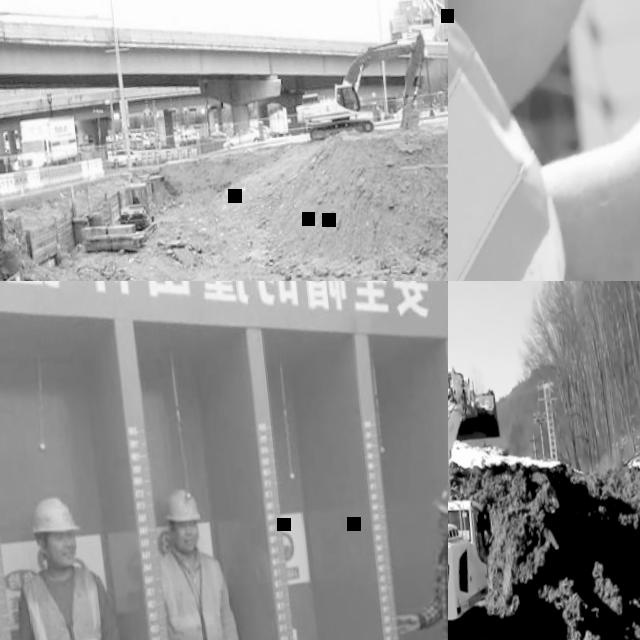Hardhat: (28, 496, 77, 535), (161, 488, 200, 524)
NO-Hardhat: (430, 476, 448, 519)
NO-Mask: (44, 541, 76, 566), (172, 529, 199, 553), (435, 514, 448, 536)
NO-Safety Vest: (432, 544, 448, 640)
Person: (448, 0, 640, 281), (0, 489, 142, 640), (151, 484, 260, 640), (381, 474, 448, 640)
Safety Cone: (139, 152, 147, 165), (146, 151, 153, 165), (154, 150, 161, 163), (175, 148, 183, 159), (185, 146, 192, 157), (164, 149, 171, 160)
Safety Vest: (448, 0, 571, 281), (157, 547, 234, 640), (19, 563, 112, 640)
machinery: (448, 358, 524, 640), (288, 26, 436, 147), (76, 173, 160, 253)
vehicle: (0, 0, 112, 39), (8, 114, 80, 171), (219, 124, 265, 147), (111, 146, 138, 167)
